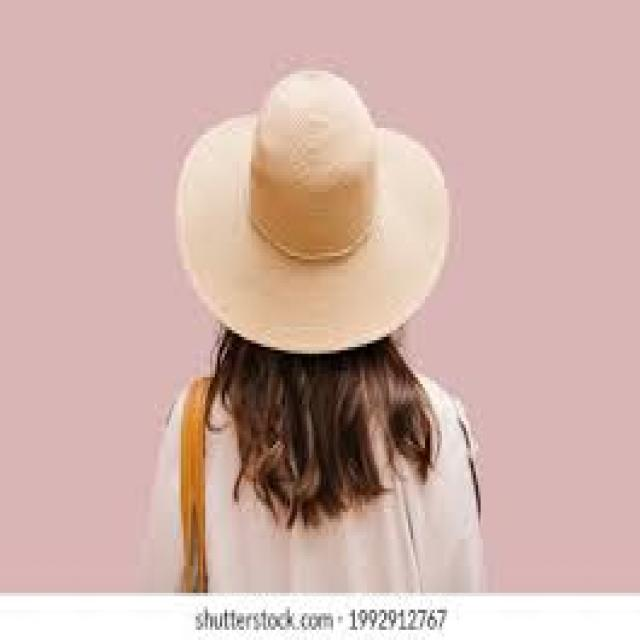hat: (166, 59, 458, 386)
